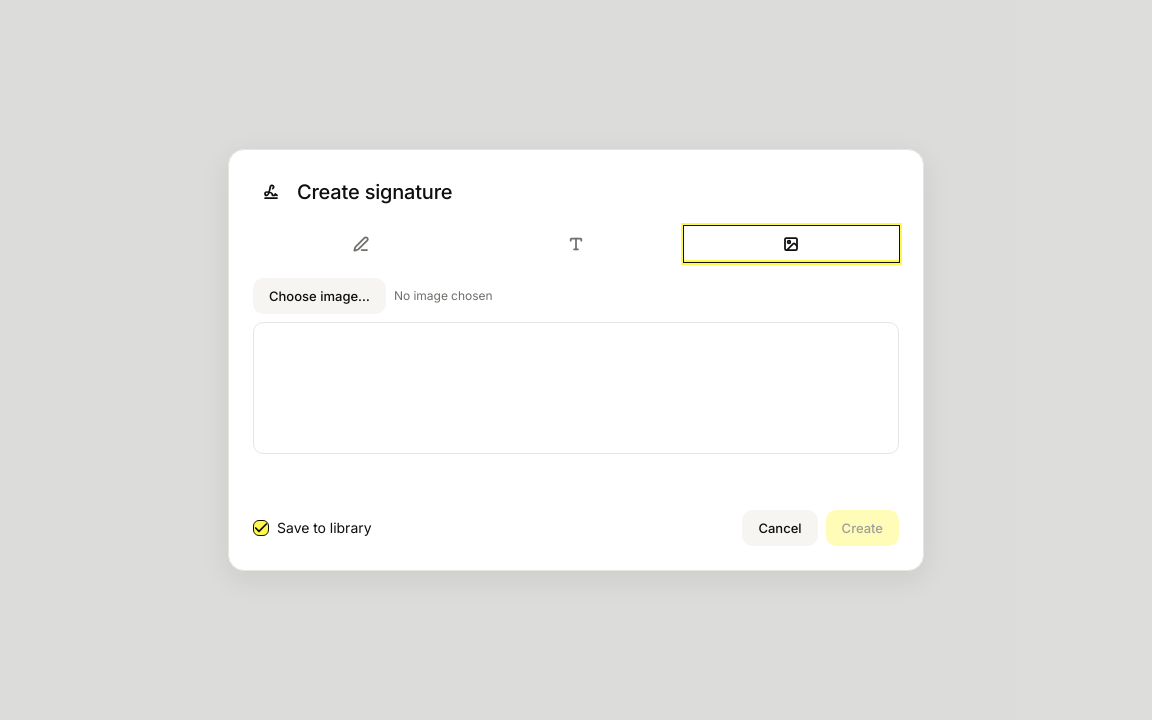
Test case: signature sheet › the Image tab imports through the dialog and shows an error for a bad image
Click the button "Choose image…".
click(319, 296)  # box top-left (253, 278), bottom-right (386, 314)
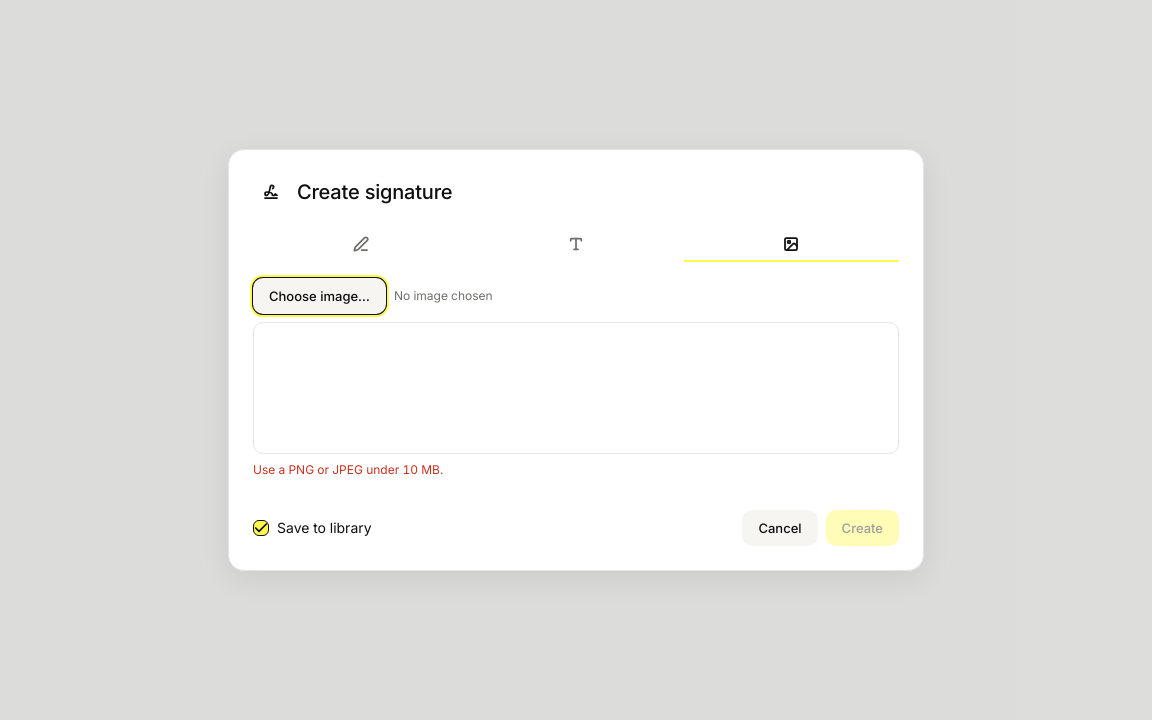
Expected: the text "Use a PNG or JPEG under 10 MB." is shown, top-left (253, 462), bottom-right (443, 477)
